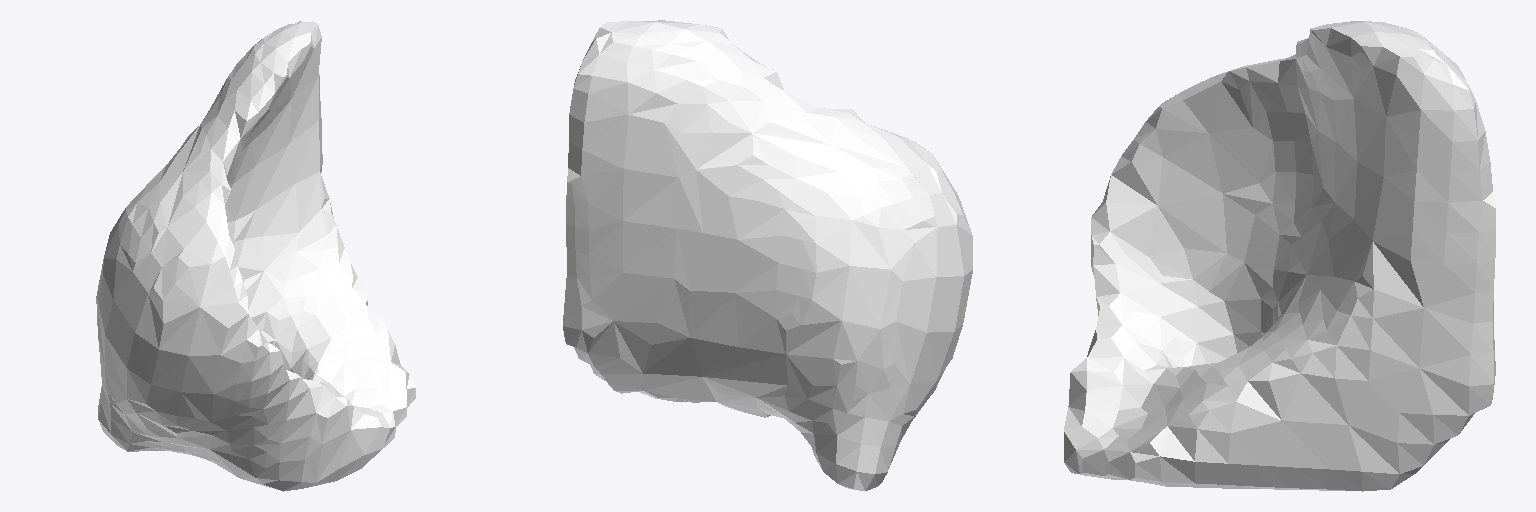
robot.urdf — digit:
<?xml version="1.0" ?>
<robot name="digit">
  <link name="baseLink">
    <inertial>
      <origin rpy="0 0 0" xyz="0 0 0"/>
       <mass value=".1"/>
       <inertia ixx="1" ixy="0" ixz="0" iyy="1" iyz="0" izz="1"/>
    </inertial>
    <visual>
      <origin rpy="0 0 0" xyz="0 0 0"/>
      <geometry>
				<mesh filename="surface_A_ascii.stl" scale="1 1 1"/>
      </geometry>
       <material name="white">
        <color rgba="1 1 1 1"/>
      </material>
    </visual>
    <collision>
      <origin rpy="0 0 0" xyz="0 0 0"/>
     <geometry>
				<mesh filename="surface_A_ascii.stl" scale="1 1 1"/>
      </geometry>
    </collision>
  </link>
</robot>

--- Render facts (derived) ---
The picture shows the robot from 3 angles, left to right: view 1: azimuth 30°, elevation 25°; view 2: azimuth 150°, elevation 25°; view 3: azimuth 270°, elevation 25°; orthographic projection.
Robot: digit — 1 links, 0 joints (none); root link baseLink; default pose: every joint at zero.
Links seen in each view (by area): view 1: baseLink; view 2: baseLink; view 3: baseLink.
Boxes of the visible links, x1,y1,x2,y2 form: baseLink: [96, 21, 415, 491]; baseLink: [563, 20, 972, 490]; baseLink: [1064, 21, 1495, 491].
Bounding box of the posed robot: 0.2422 × 0.2586 × 0.3322 m (x, y, z).
1 mesh visuals loaded from 1 distinct referenced files (1 binary STL).